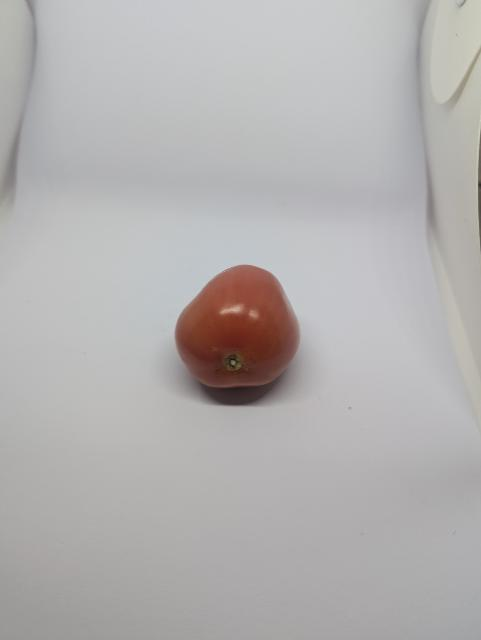red: (164, 256, 310, 399)
